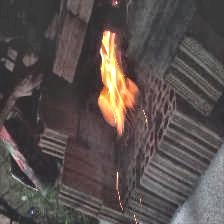fire: (88, 25, 144, 139)
